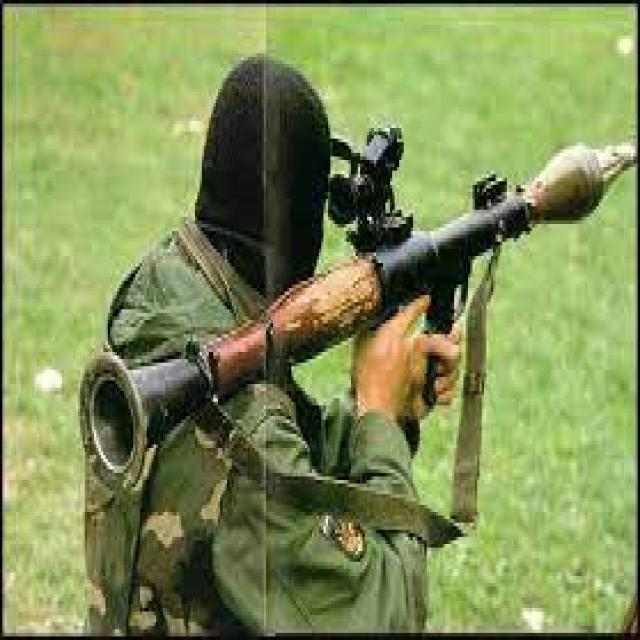bazooka: (49, 96, 623, 511)
